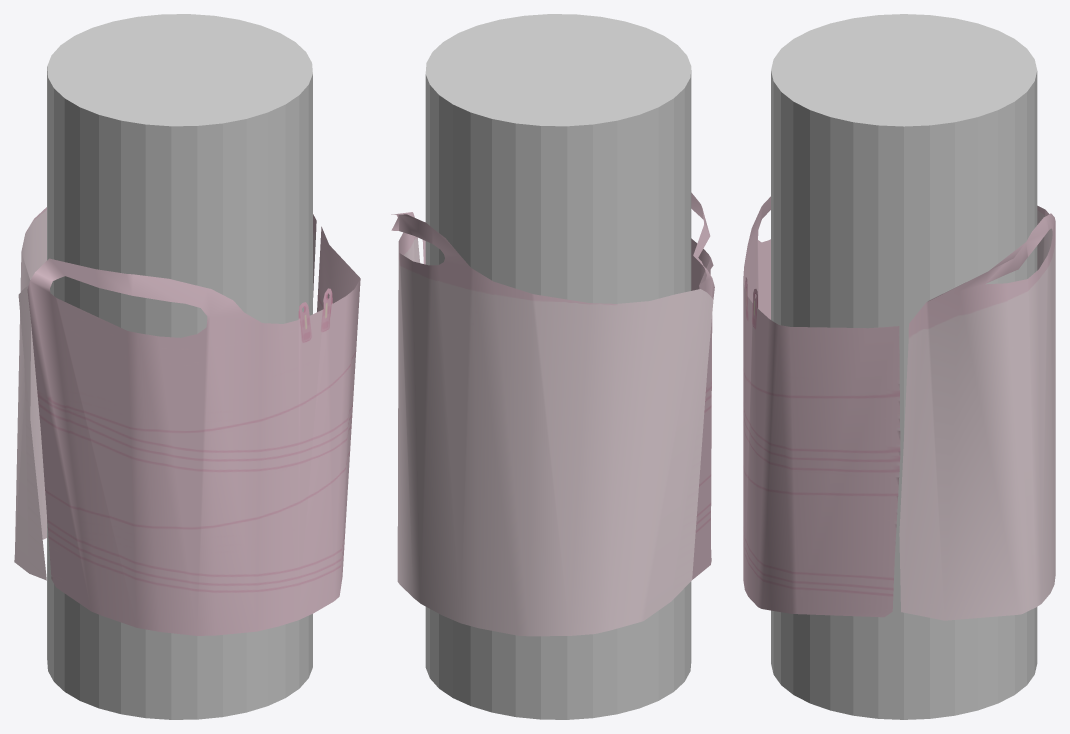
Rendered from bin.glb.
3 views of the same model, side by side, from view 1: azimuth 30°, elevation 25°; view 2: azimuth 150°, elevation 25°; view 3: azimuth 270°, elevation 25° (orthographic).
Visible parts, largest first — view 1: Plane.001, Cylinder; view 2: Plane.001, Cylinder; view 3: Cylinder, Plane.001.
Part boxes in pixels (x1,y1,x2,y2): Plane.001: [14, 207, 360, 635]; Cylinder: [47, 14, 312, 719]; Plane.001: [391, 192, 714, 636]; Cylinder: [425, 14, 691, 719]; Cylinder: [771, 14, 1037, 719]; Plane.001: [743, 196, 1055, 620].
Size of the model in its own units: 0.8951 by 1.71 by 0.8143.
2 materials, 2 textured.
